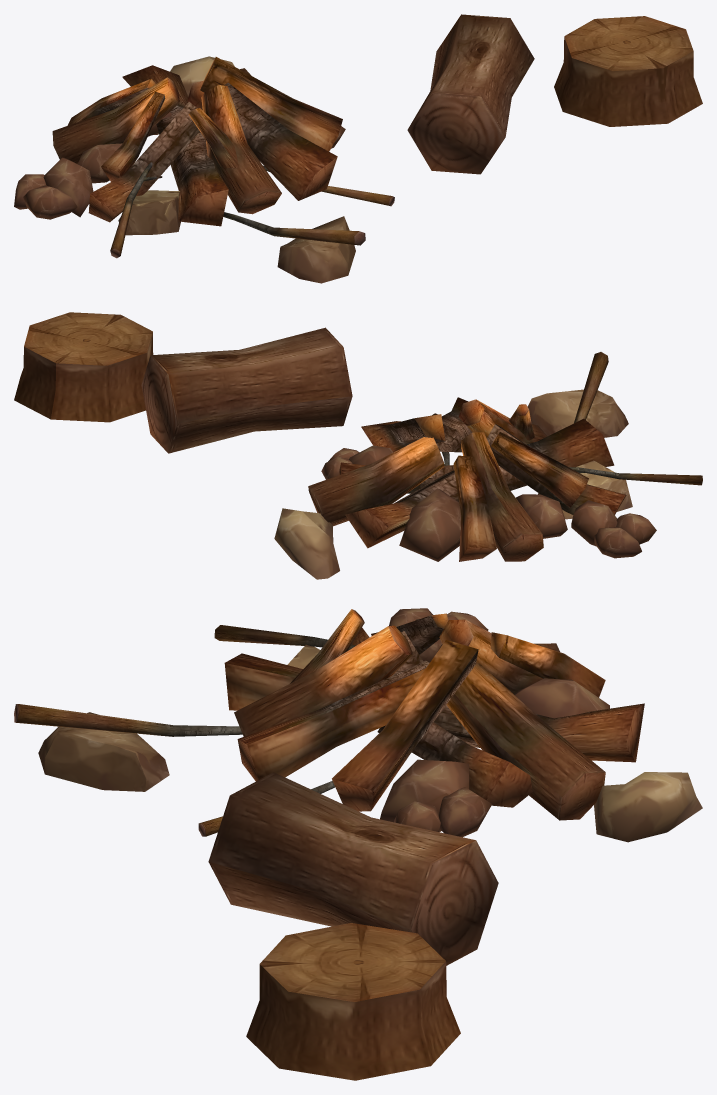
Rendered from fire.obj.
3 views of the same model, one above another, from view 1: azimuth 30°, elevation 25°; view 2: azimuth 150°, elevation 25°; view 3: azimuth 270°, elevation 25° (orthographic). The views are drawn at different scales.
Visible parts, largest first — view 1: Gouhuo, DrawCall_0120, polySurface10_ui_DrawCall_0111; view 2: Gouhuo, polySurface10_ui_DrawCall_0111, DrawCall_0120; view 3: Gouhuo, polySurface10_ui_DrawCall_0111, DrawCall_0120.
Boxes of the visible parts, left/top/right/bottom form: Gouhuo: left=14, top=56, right=394, bottom=283; DrawCall_0120: left=554, top=16, right=702, bottom=126; polySurface10_ui_DrawCall_0111: left=407, top=14, right=534, bottom=174; Gouhuo: left=274, top=352, right=702, bottom=579; polySurface10_ui_DrawCall_0111: left=141, top=327, right=352, bottom=453; DrawCall_0120: left=14, top=312, right=153, bottom=422; Gouhuo: left=14, top=608, right=702, bottom=842; polySurface10_ui_DrawCall_0111: left=208, top=772, right=498, bottom=965; DrawCall_0120: left=246, top=923, right=460, bottom=1080.
Bounding box in the file's own units: 81.52 × 13.04 × 53.58.
Materials: 1 (1 with a texture image).
